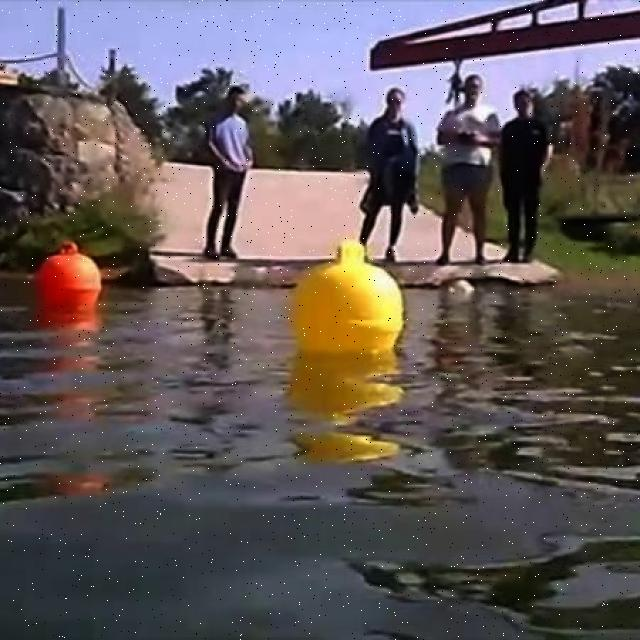buoy: (289, 238, 404, 346), (34, 239, 104, 310)
